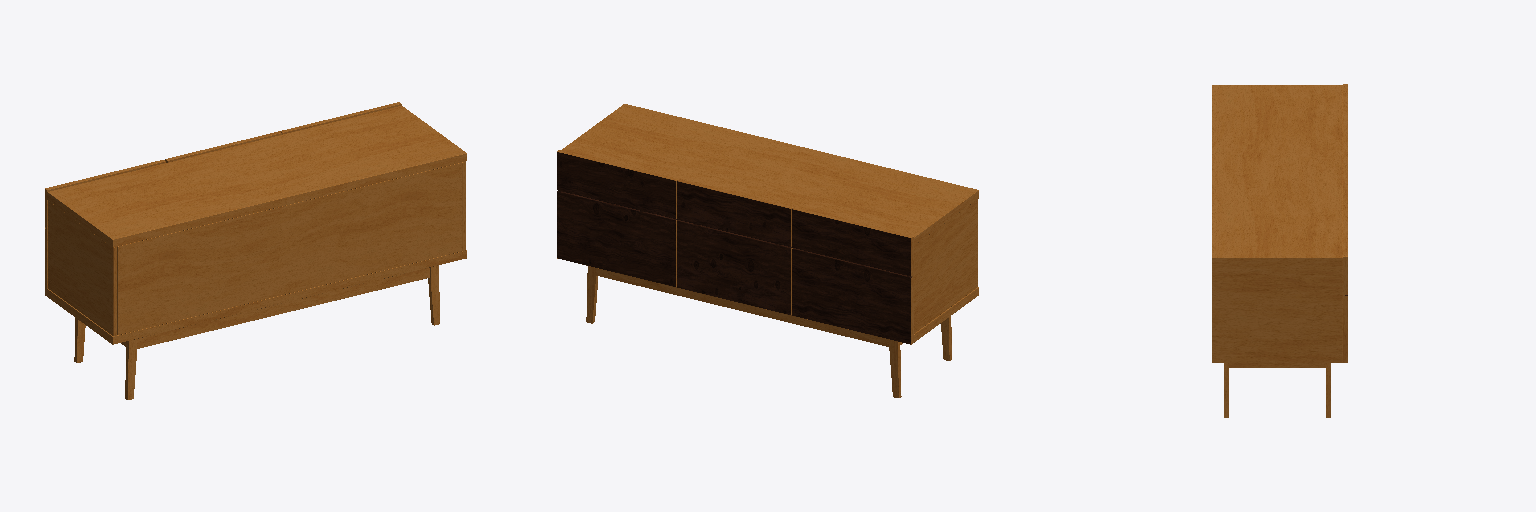
3 renders of one model, left to right at view 1: azimuth 30°, elevation 25°; view 2: azimuth 150°, elevation 25°; view 3: azimuth 270°, elevation 25°, orthographic.
Parts seen in each view (by area): view 1: Rack_Classic_I_3_GV_Branco.001; view 2: Rack_Classic_I_3_GV_Branco.001; view 3: Rack_Classic_I_3_GV_Branco.001.
Boxes of the visible parts, x1,y1,x2,y2 form: Rack_Classic_I_3_GV_Branco.001: [45, 102, 466, 399]; Rack_Classic_I_3_GV_Branco.001: [557, 104, 978, 397]; Rack_Classic_I_3_GV_Branco.001: [1212, 84, 1347, 417].
Bounding box in the file's own units: 1.35 × 0.6271 × 0.4488.
2 materials, 2 textured.